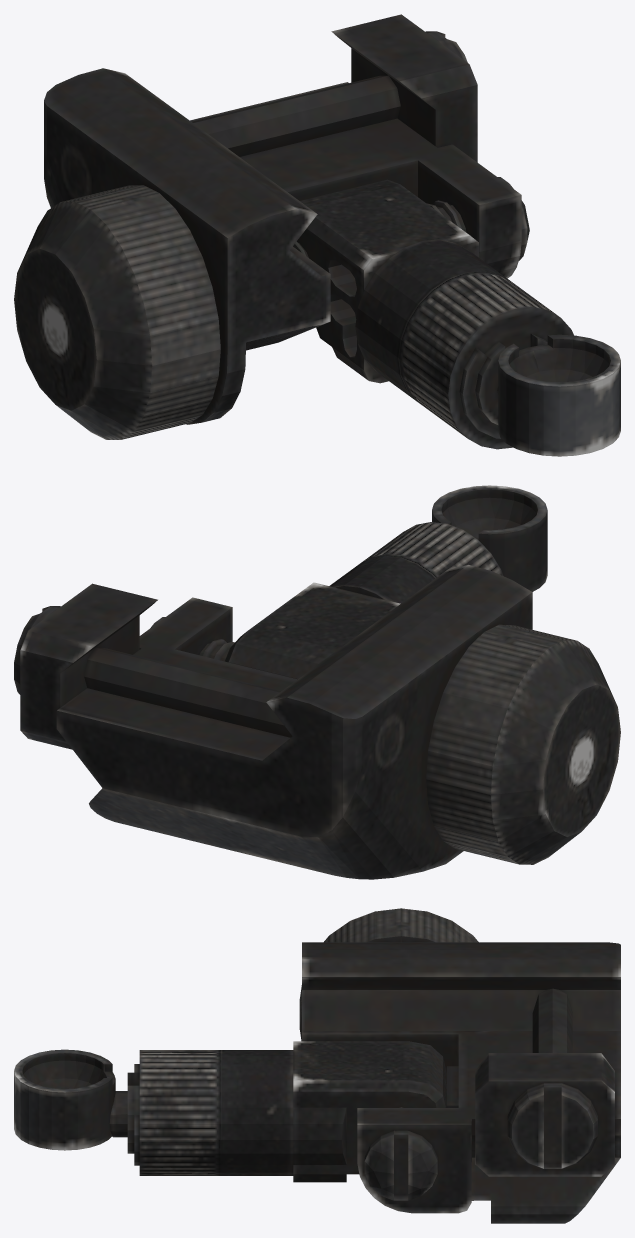
3 views of the same model, one above another, from view 1: azimuth 30°, elevation 25°; view 2: azimuth 150°, elevation 25°; view 3: azimuth 270°, elevation 25° (orthographic). The views are drawn at different scales.
Parts seen in each view (by area): view 1: TW_5c1780312e221602b66cc189_folded_PZ_Import; view 2: TW_5c1780312e221602b66cc189_folded_PZ_Import; view 3: TW_5c1780312e221602b66cc189_folded_PZ_Import.
Part boxes in pixels (x1,y1,x2,y2): TW_5c1780312e221602b66cc189_folded_PZ_Import: (14,14,620,456); TW_5c1780312e221602b66cc189_folded_PZ_Import: (14,485,620,879); TW_5c1780312e221602b66cc189_folded_PZ_Import: (14,908,620,1223).
Bounding box in the file's own units: 0.0241 × 0.0314 × 0.0111.
1 material, 1 textured.
